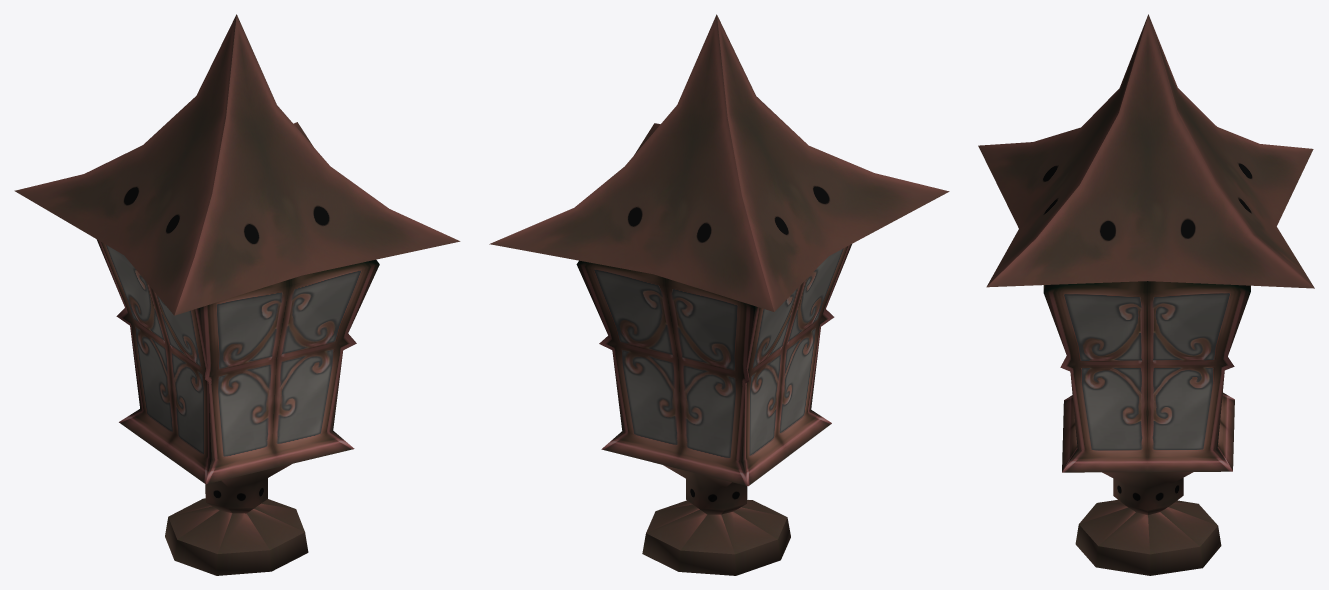
The model's file is AntiqueLamp_HD.fbx.
The picture shows the model from 3 angles, left to right: view 1: azimuth 30°, elevation 25°; view 2: azimuth 150°, elevation 25°; view 3: azimuth 270°, elevation 25°; orthographic projection.
Parts seen in each view (by area): view 1: AntiqueLamp; view 2: AntiqueLamp; view 3: AntiqueLamp.
Boxes of the visible parts, bbox=[...] form: AntiqueLamp: bbox=[14, 14, 460, 575]; AntiqueLamp: bbox=[489, 14, 949, 575]; AntiqueLamp: bbox=[978, 14, 1314, 575].
Size of the model in its own units: 0.4791 by 0.8333 by 0.4791.
